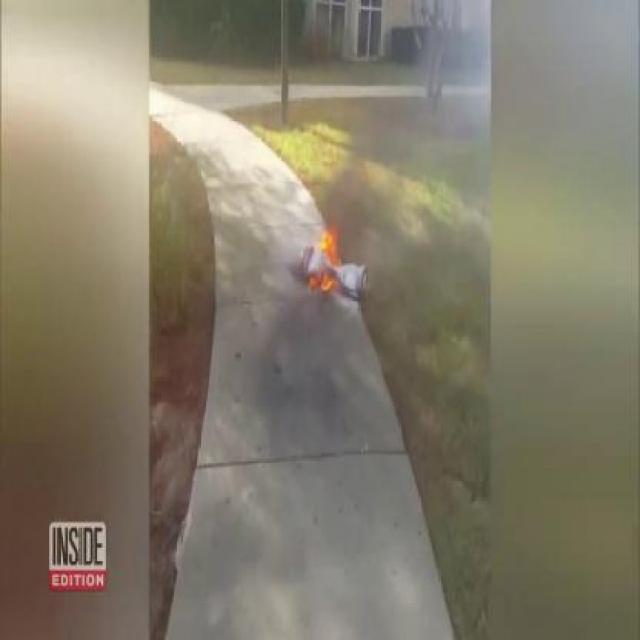fire: (296, 208, 346, 296)
